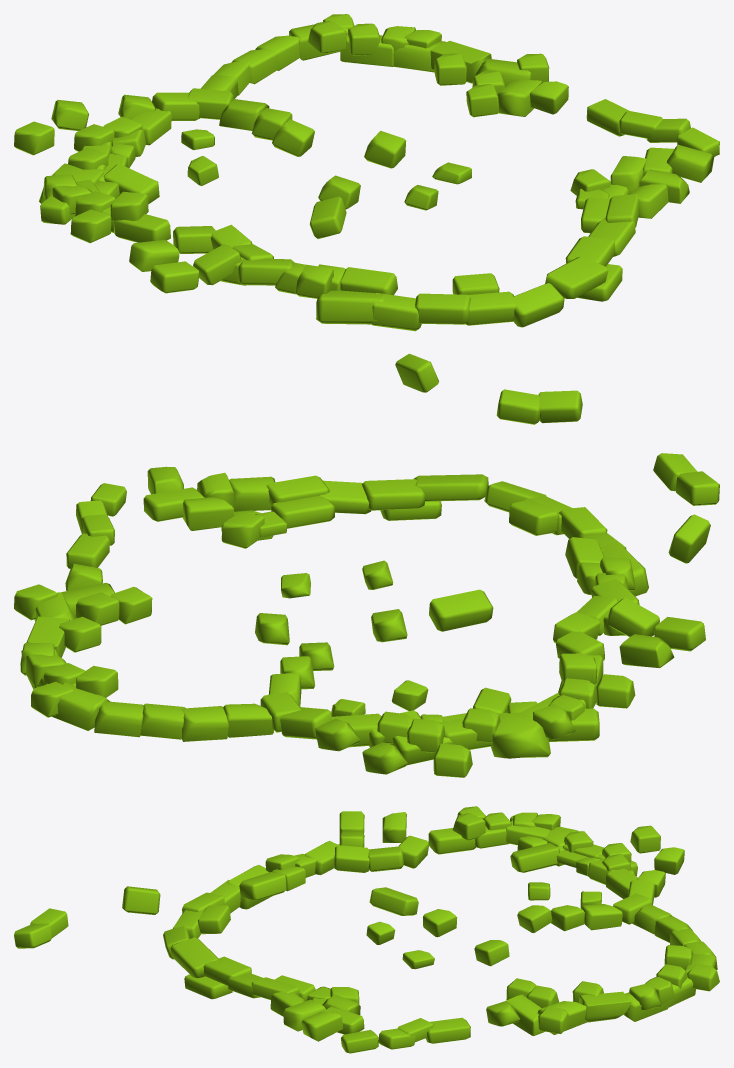
Rendered from Floor_Break_C_06A_Lod0.fbx.
3 views of the same model, one above another, from view 1: azimuth 30°, elevation 25°; view 2: azimuth 150°, elevation 25°; view 3: azimuth 270°, elevation 25° (orthographic). The views are drawn at different scales.
Parts seen in each view (by area): view 1: Floor_Break_C_06A_Lod0; view 2: Floor_Break_C_06A_Lod0; view 3: Floor_Break_C_06A_Lod0.
Part boxes in pixels (x1,y1,x2,y2): Floor_Break_C_06A_Lod0: [14, 14, 719, 424]; Floor_Break_C_06A_Lod0: [14, 453, 719, 777]; Floor_Break_C_06A_Lod0: [14, 806, 719, 1053].
Bounding box in the file's own units: 800 × 98.09 × 1023.
